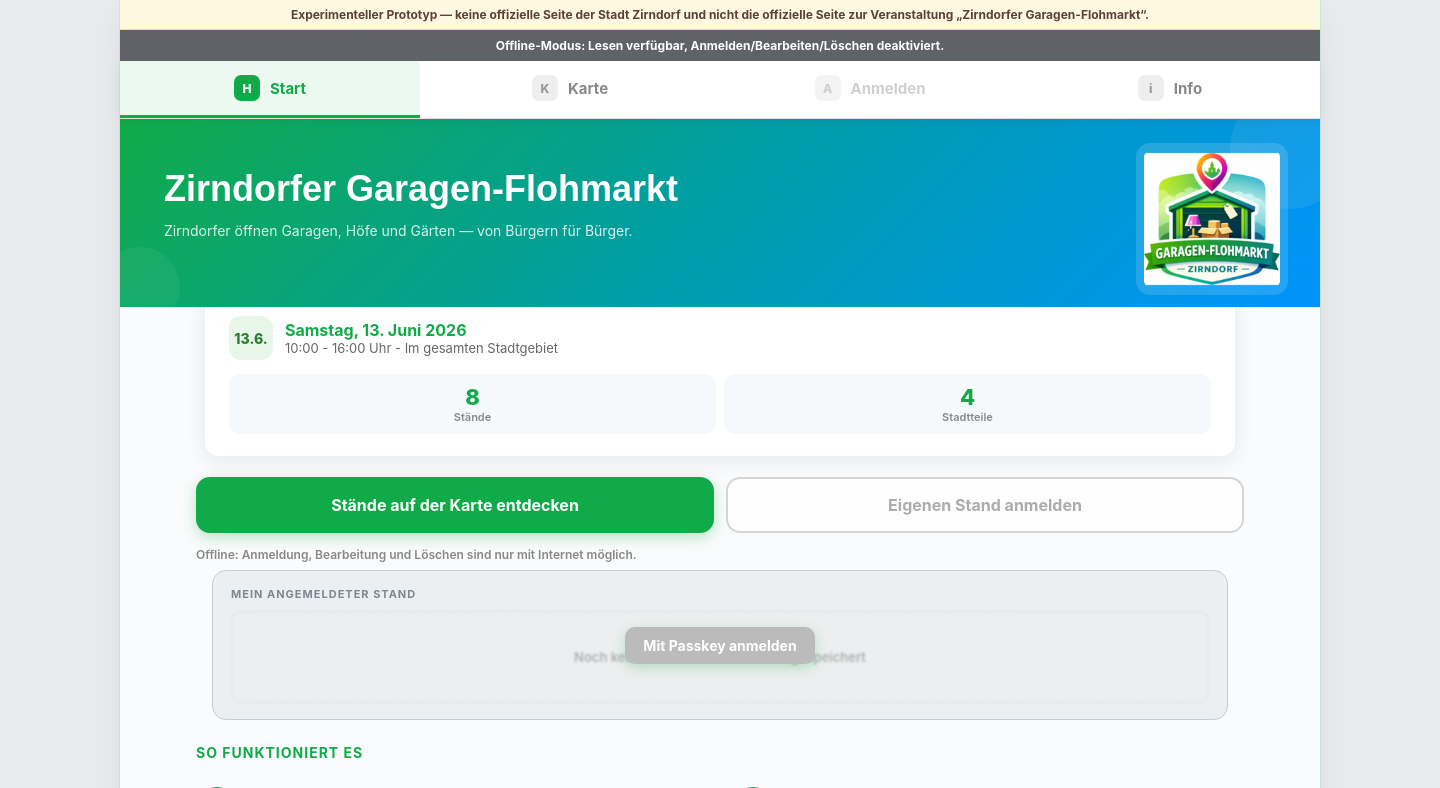
Test case: App › updates pathname when switching screens
Click the button "i Info": (1151, 88) [1020, 61, 1320, 118]
(page scrolled)
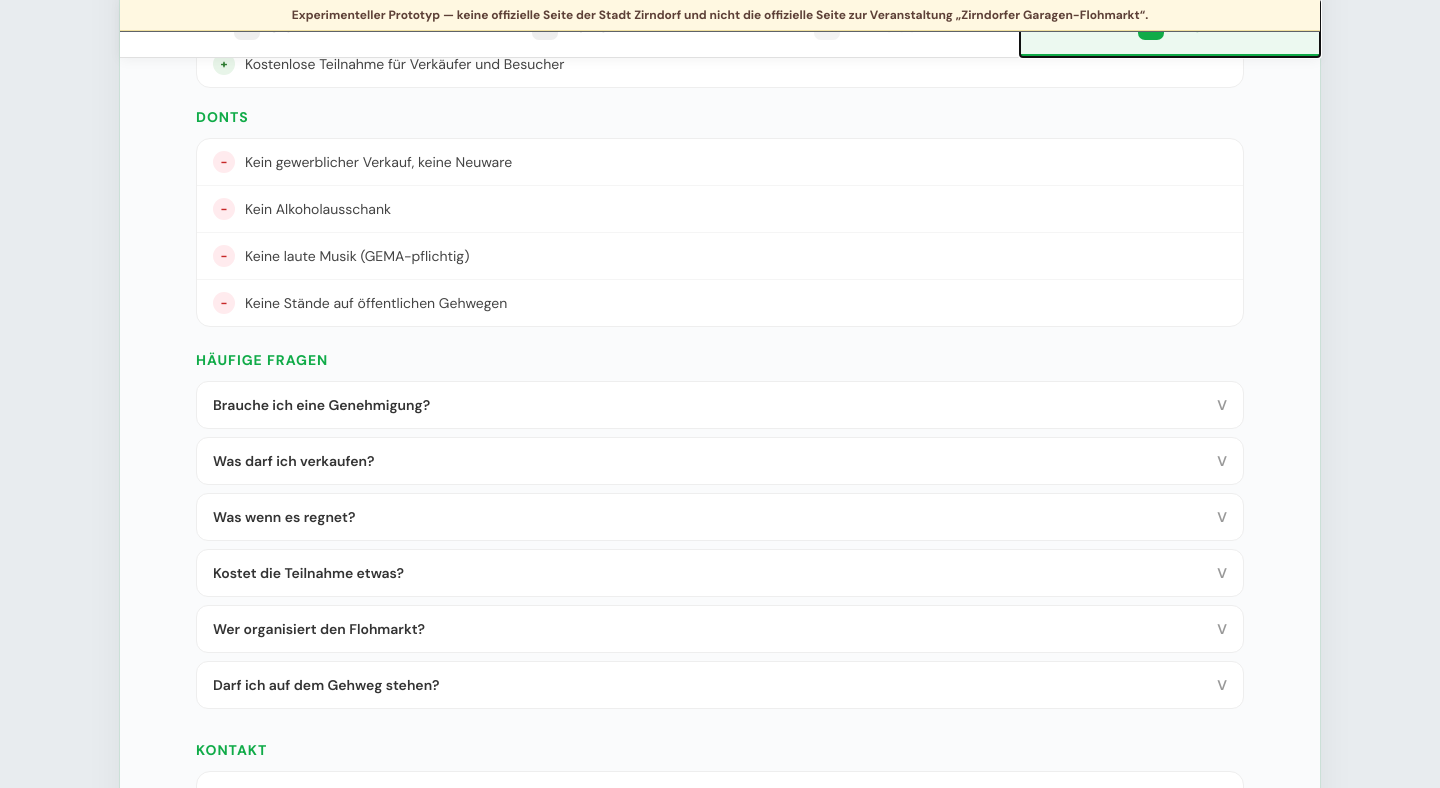
Now the text "Brauche ich eine Genehmigung?" is shown, box [213, 396, 430, 414]
